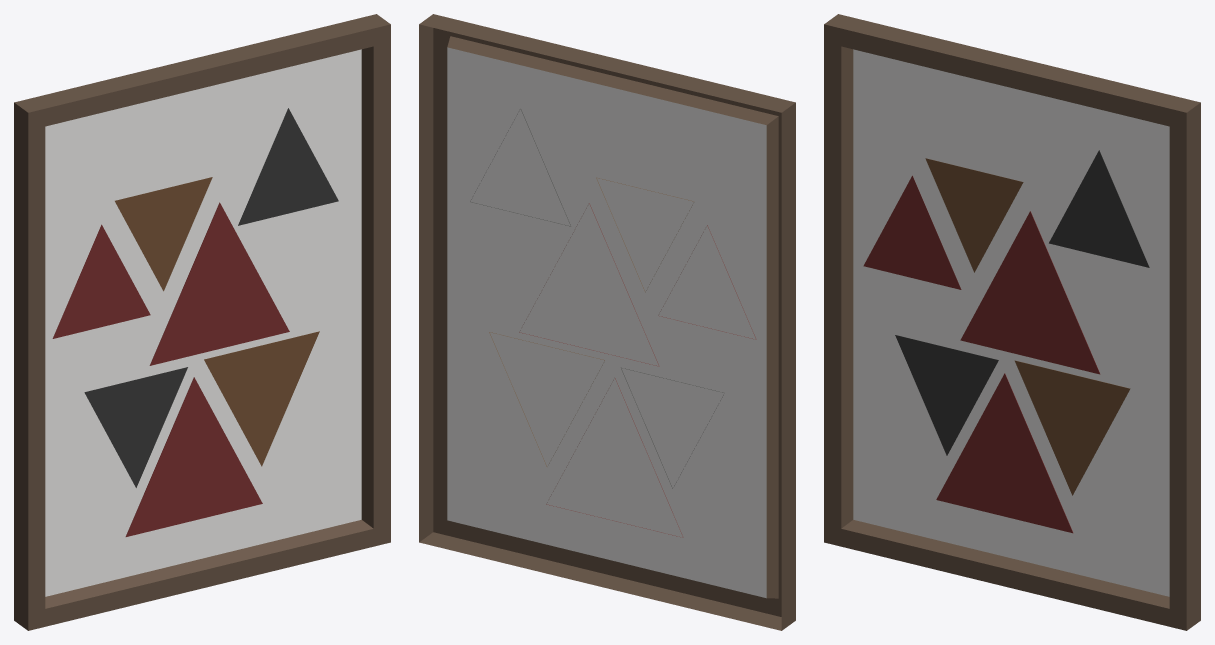
Rendered from Picture_10.fbx.
3 views of the same model, side by side, from view 1: azimuth 30°, elevation 25°; view 2: azimuth 150°, elevation 25°; view 3: azimuth 330°, elevation 25° (orthographic).
Parts seen in each view (by area): view 1: Picture_10; view 2: Picture_10; view 3: Picture_10.
Boxes of the visible parts, x1,y1,x2,y2 form: Picture_10: (14, 14, 390, 630); Picture_10: (419, 14, 795, 630); Picture_10: (824, 14, 1200, 630).
Size of the model in its own units: 84.86 by 5.72 by 116.
